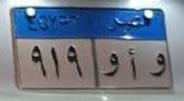9: (66, 43, 82, 77), (50, 45, 60, 80)
alif: (129, 48, 137, 79)
waw: (149, 52, 168, 79), (102, 53, 121, 78)
